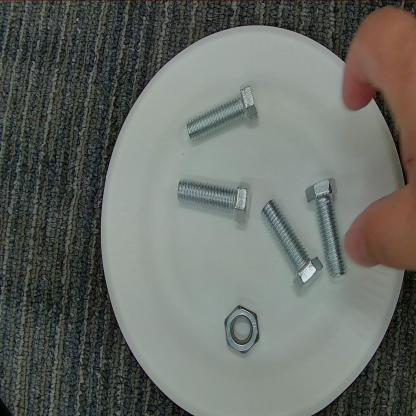FOD: (260, 198, 322, 300), (302, 178, 348, 286), (179, 86, 263, 145), (177, 173, 254, 230), (221, 303, 261, 359)
